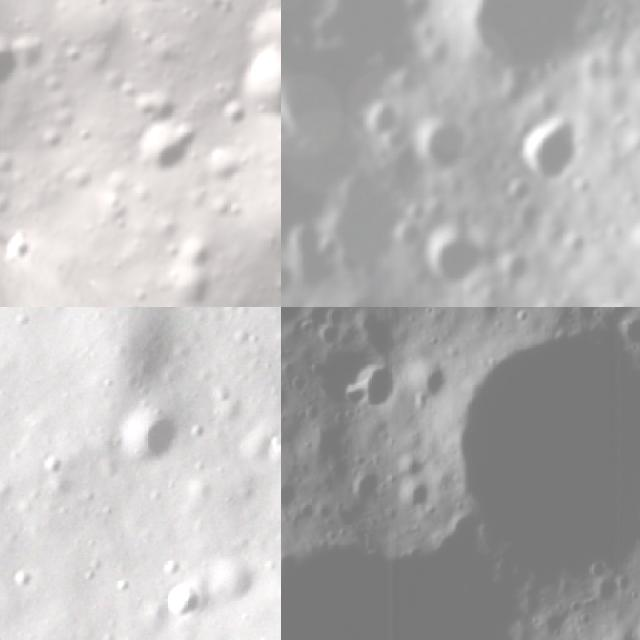crater: (343, 307, 640, 593), (281, 560, 524, 640), (439, 0, 605, 90), (99, 374, 204, 480), (177, 521, 275, 620), (336, 158, 394, 305), (212, 33, 281, 150), (121, 104, 208, 192), (150, 227, 237, 307), (416, 226, 490, 299), (525, 108, 579, 204), (121, 75, 185, 139), (229, 0, 281, 78), (428, 104, 465, 196), (156, 571, 209, 624), (352, 362, 402, 413), (0, 30, 35, 102), (402, 354, 452, 404), (396, 474, 435, 520), (367, 95, 400, 148), (6, 222, 49, 260), (77, 261, 121, 295), (347, 462, 384, 501), (392, 448, 430, 484), (281, 476, 312, 519), (133, 0, 187, 21), (294, 219, 320, 259), (500, 179, 537, 207), (0, 208, 24, 250), (281, 307, 309, 331), (623, 128, 640, 162), (303, 298, 323, 307)
